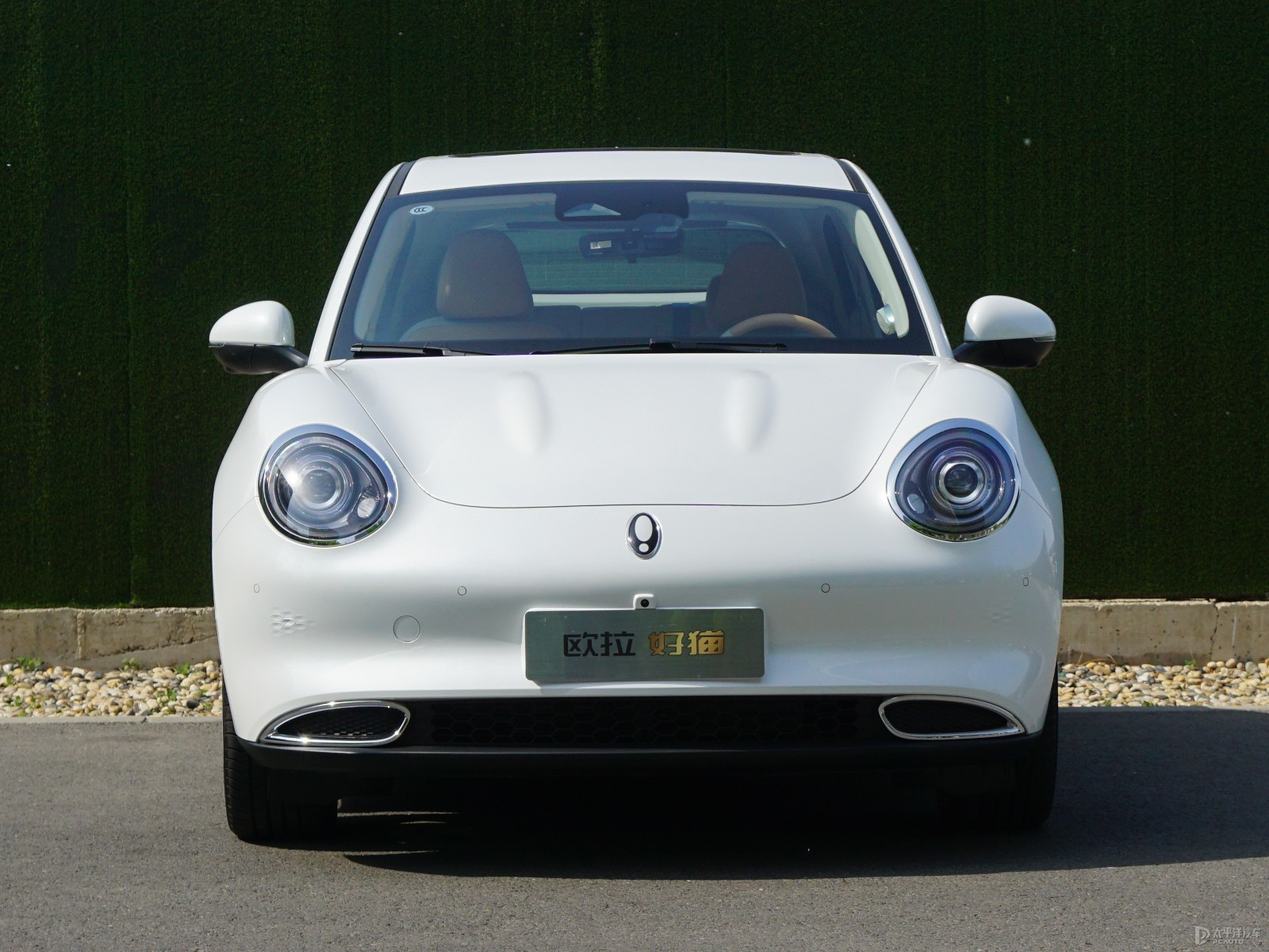ORA: (627, 512, 660, 558)
